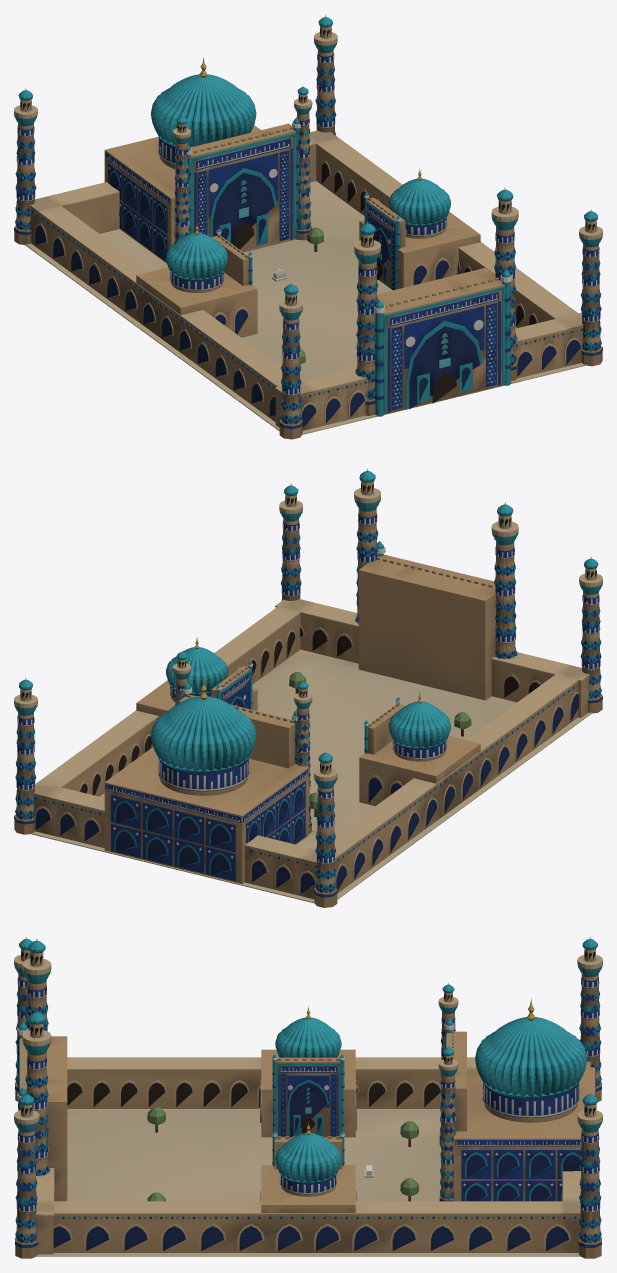
File: bibi-khanym.glb
3 views of the same model, one above another, from view 1: azimuth 30°, elevation 25°; view 2: azimuth 150°, elevation 25°; view 3: azimuth 270°, elevation 25° (orthographic). The views are drawn at different scales.
Visible parts, largest first — view 1: p0_walls, p3_minarets, p1_portal, p2_side mosques; view 2: p0_walls, p3_minarets, p1_portal, p2_side mosques; view 3: p0_walls, p3_minarets, p2_side mosques, p1_portal.
Boxes of the visible parts, x1=… form: p0_walls: x1=24, y1=130, x2=586, y2=434; p3_minarets: x1=14, y1=15, x2=602, y2=439; p1_portal: x1=354, y1=187, x2=518, y2=416; p2_side mosques: x1=136, y1=168, x2=480, y2=352; p0_walls: x1=30, y1=599, x2=592, y2=903; p3_minarets: x1=14, y1=483, x2=602, y2=907; p1_portal: x1=354, y1=469, x2=518, y2=700; p2_side mosques: x1=136, y1=637, x2=480, y2=820; p0_walls: x1=35, y1=1057, x2=596, y2=1256; p3_minarets: x1=14, y1=937, x2=602, y2=1258; p2_side mosques: x1=260, y1=1006, x2=356, y2=1212; p1_portal: x1=17, y1=938, x2=67, y2=1201.
Bounding box in the file's own units: 117 × 66.35 × 175.
